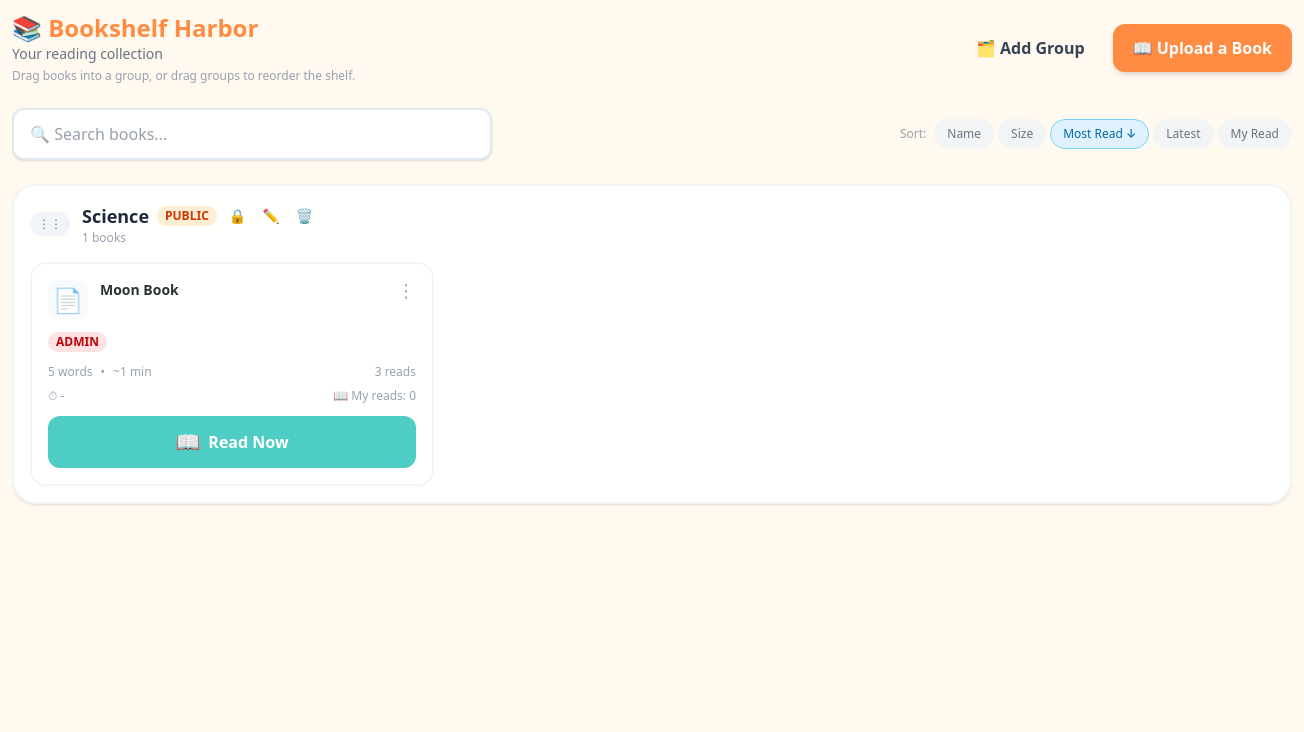
Test case: LibraryPage › shows a clear button inside the search input when text is entered
In the field labelled "Search books...": (252, 134) [12,108,492,160], type "moon"
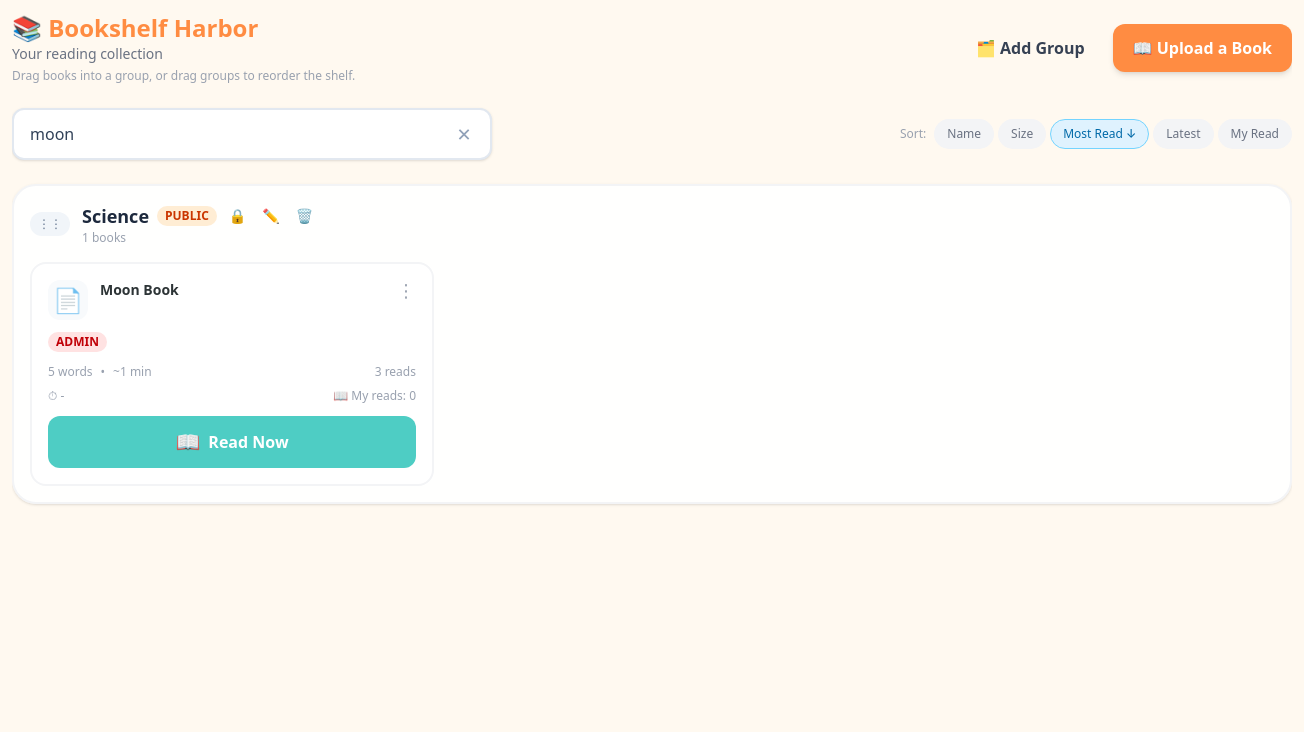
Expected: the button named "Clear search" is shown
Click the button named "Clear search": (464, 134) [448,118,480,150]
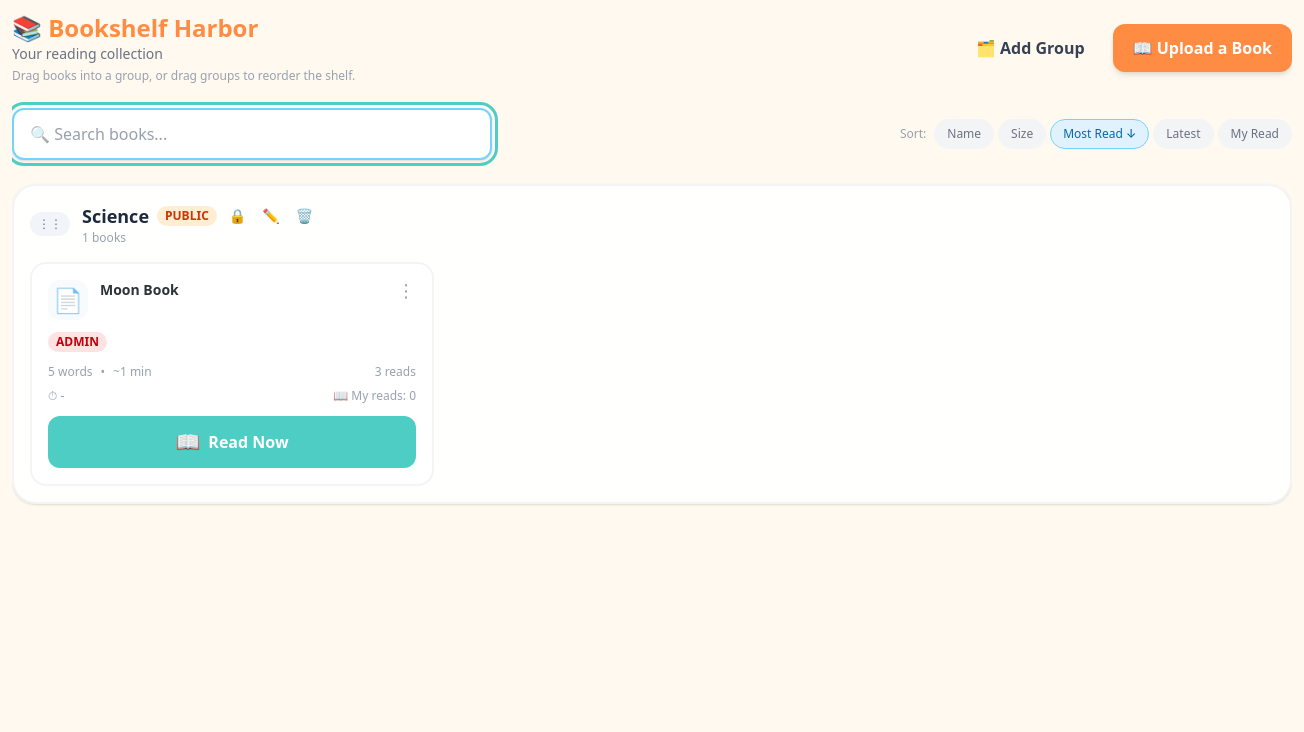
Expected: the field labelled "Search books..." is empty, [12,108,492,160]
